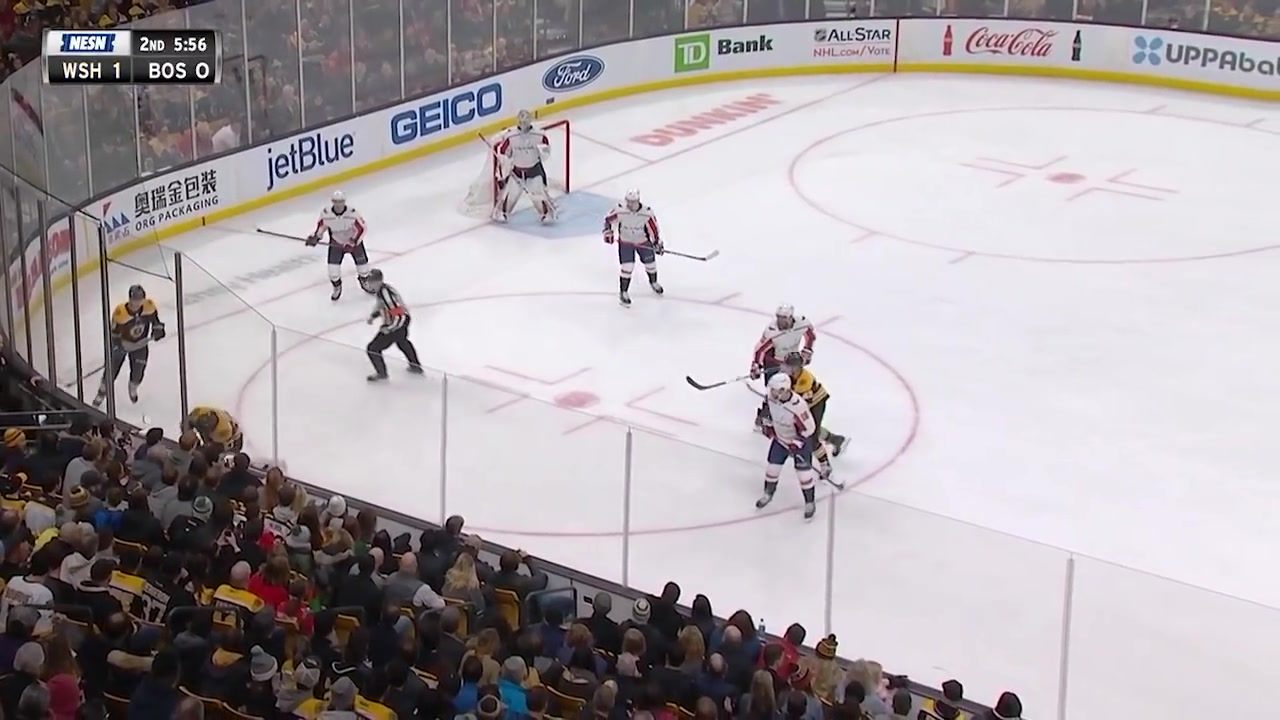geico: (388, 87, 509, 145)
